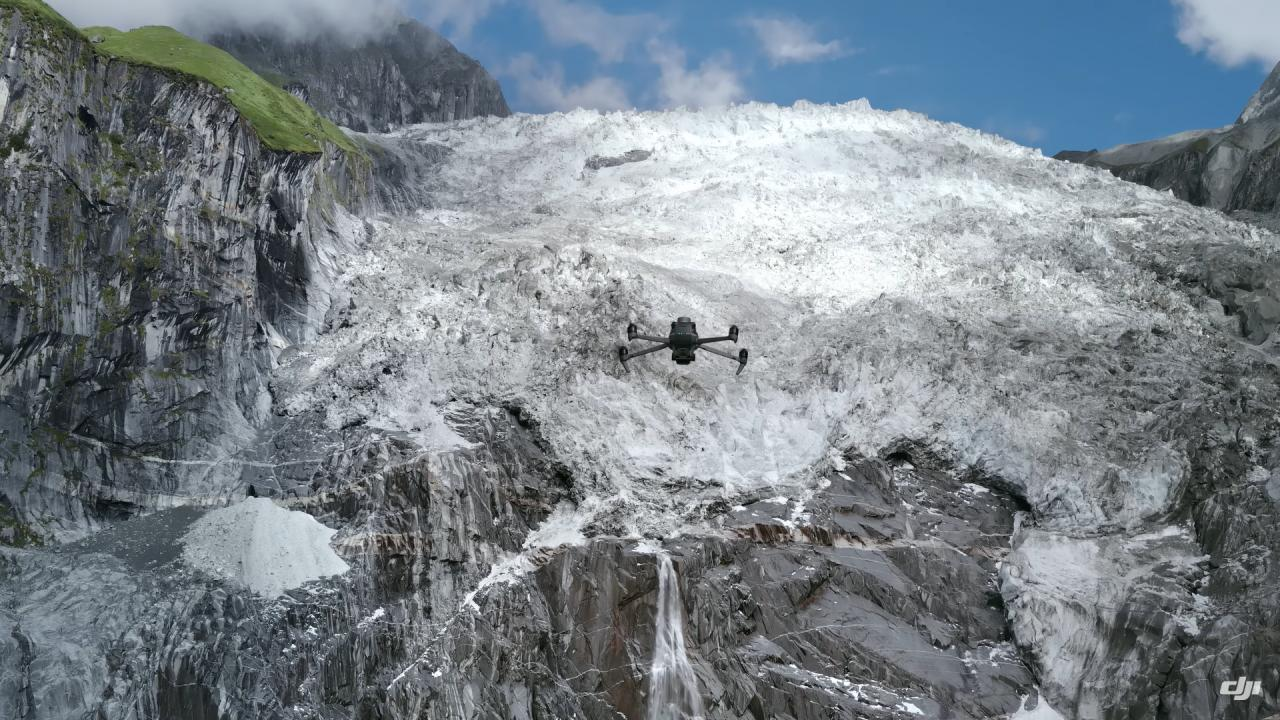Drone: (604, 304, 762, 387)
